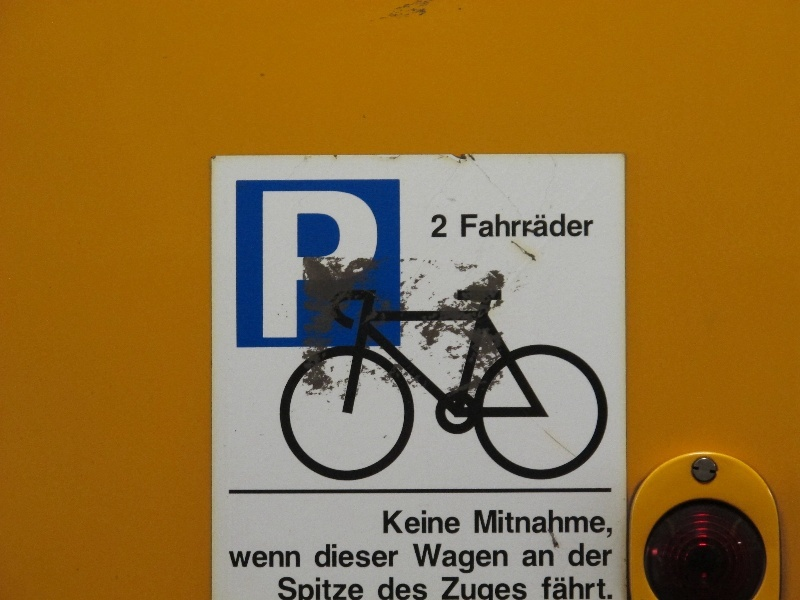text: (273, 192, 288, 340), (289, 192, 304, 340), (305, 192, 320, 340), (321, 192, 336, 340), (337, 192, 352, 340), (353, 192, 368, 340), (263, 192, 272, 340), (369, 192, 378, 340), (417, 544, 432, 574), (433, 544, 448, 574), (449, 544, 464, 574), (465, 544, 480, 574), (481, 544, 496, 574), (481, 511, 496, 538), (497, 511, 512, 538), (513, 511, 528, 538), (529, 511, 544, 538), (545, 511, 560, 538), (561, 511, 576, 538), (577, 511, 592, 538), (593, 511, 608, 538), (465, 213, 480, 238), (481, 213, 496, 238), (497, 213, 512, 238), (513, 213, 528, 238), (529, 213, 544, 238), (545, 213, 560, 238), (561, 213, 576, 238), (577, 213, 592, 238), (385, 511, 400, 535), (401, 511, 416, 535), (417, 511, 432, 535), (433, 511, 448, 535), (321, 544, 336, 568), (337, 544, 352, 568), (353, 544, 368, 568), (369, 544, 384, 568), (577, 543, 592, 567), (593, 543, 608, 567), (433, 215, 448, 238), (385, 577, 400, 600), (401, 577, 416, 600), (545, 577, 560, 600), (561, 577, 576, 600), (577, 577, 592, 600), (593, 577, 608, 600), (449, 577, 464, 600), (465, 577, 480, 600), (481, 577, 496, 600), (497, 577, 512, 600), (289, 578, 304, 600), (305, 578, 320, 600), (321, 578, 336, 600), (337, 578, 352, 600), (497, 544, 508, 574), (513, 577, 527, 600), (385, 544, 398, 568), (449, 511, 460, 535), (241, 551, 256, 568), (257, 551, 272, 568), (273, 551, 288, 568), (529, 550, 544, 567), (417, 577, 427, 600), (353, 578, 363, 600), (279, 578, 288, 600), (229, 551, 240, 568), (289, 551, 300, 568), (569, 543, 576, 567), (545, 550, 554, 567), (442, 577, 448, 600), (475, 511, 480, 538), (315, 544, 320, 568), (379, 577, 384, 600), (609, 577, 613, 600), (413, 544, 416, 574), (523, 550, 528, 567), (609, 511, 612, 538), (609, 543, 612, 567), (462, 213, 464, 238), (542, 577, 544, 600), (593, 213, 594, 238)
